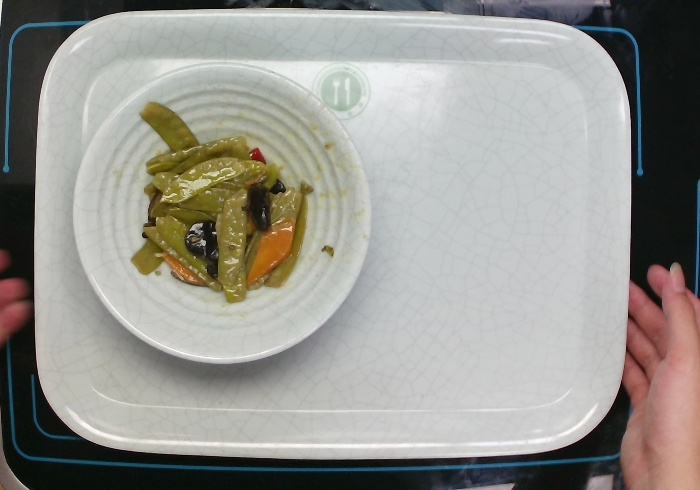JYsf-Xiao_Tang_Wan: (65, 51, 375, 369)
